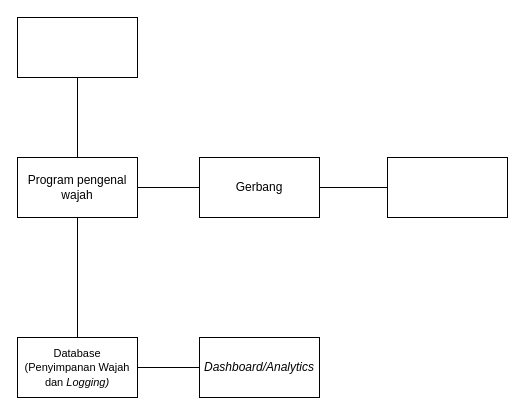
This 525x415 diagram has some shape labels left out. The box of each missing label's shape, as (x1, y1, x2, y2) in pixels:
Kamera dan Sensor: (16, 16, 138, 78)
Tombol Darurat: (386, 156, 508, 218)
